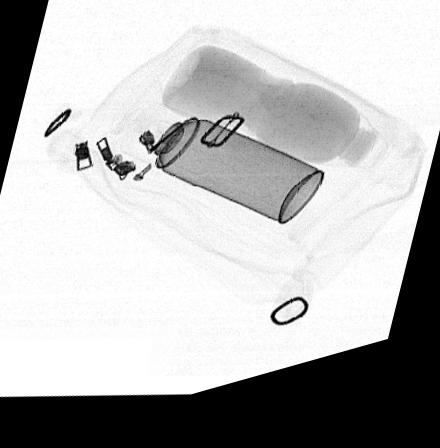Sprayer: (121, 109, 326, 241)
